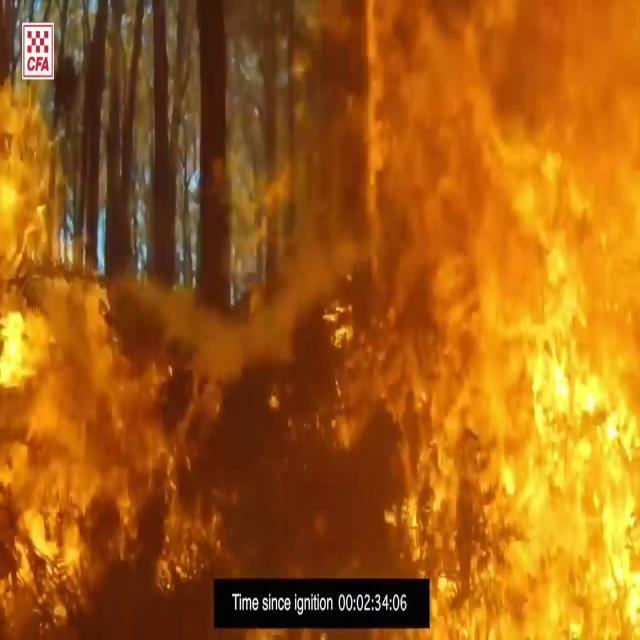Fire: (261, 0, 640, 624), (0, 133, 240, 640)
